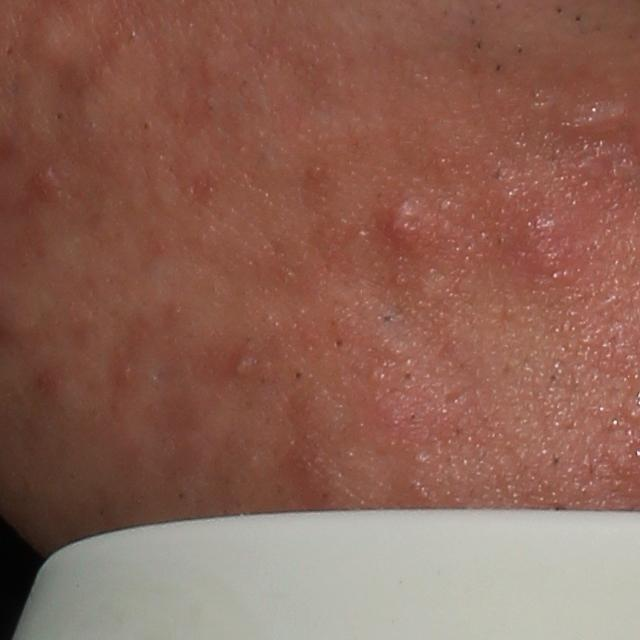hypertrophic_scar: (17, 14, 93, 67), (563, 103, 633, 135)
papule: (511, 212, 578, 286), (382, 187, 431, 248), (30, 165, 58, 203)
